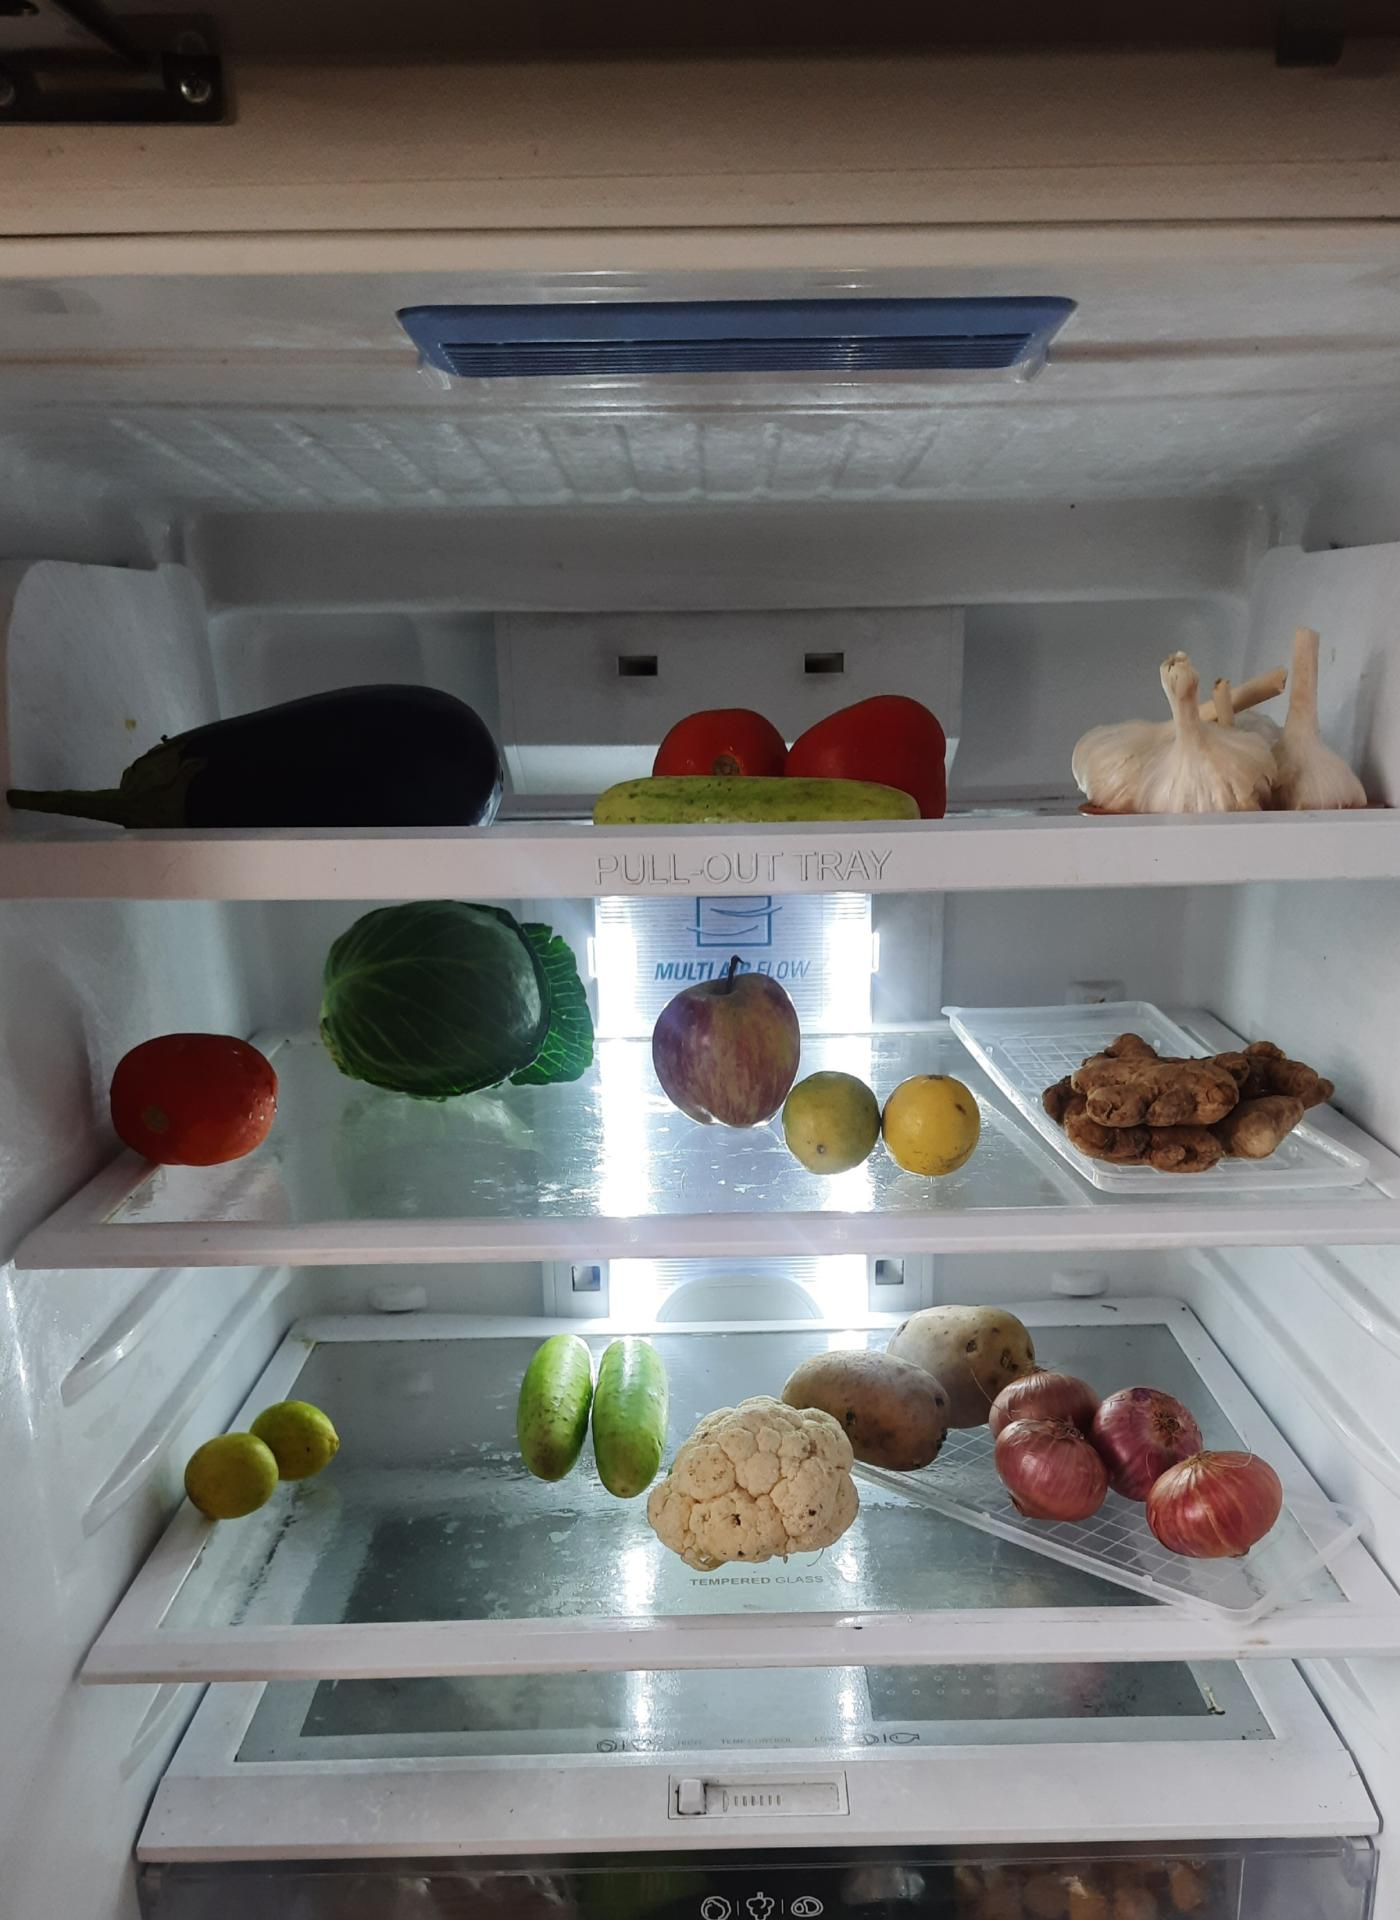apple: (644, 929, 807, 1128)
brinjal: (3, 665, 494, 845)
cabbage: (318, 899, 589, 1114)
cauliflower: (641, 1403, 865, 1574)
cucumber: (583, 763, 936, 844), (529, 1304, 666, 1504)
garlic: (1045, 623, 1378, 814)
ginger: (1048, 1024, 1339, 1163)
lemon: (792, 1075, 990, 1187), (174, 1398, 350, 1520)
onion: (1006, 1376, 1305, 1570)
potato: (780, 1307, 1051, 1437)
tomato: (623, 680, 988, 781), (112, 1036, 283, 1154)
